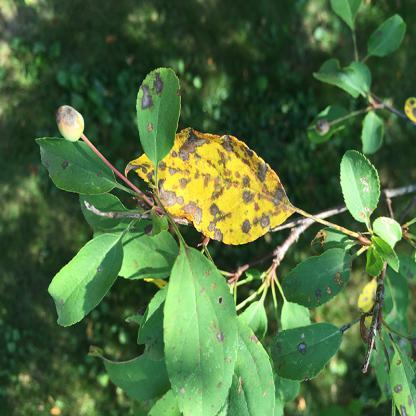Apple Scab Leaf: (132, 128, 308, 246), (160, 244, 238, 415), (30, 129, 122, 204), (270, 316, 350, 388), (276, 236, 356, 306), (134, 66, 184, 176)
